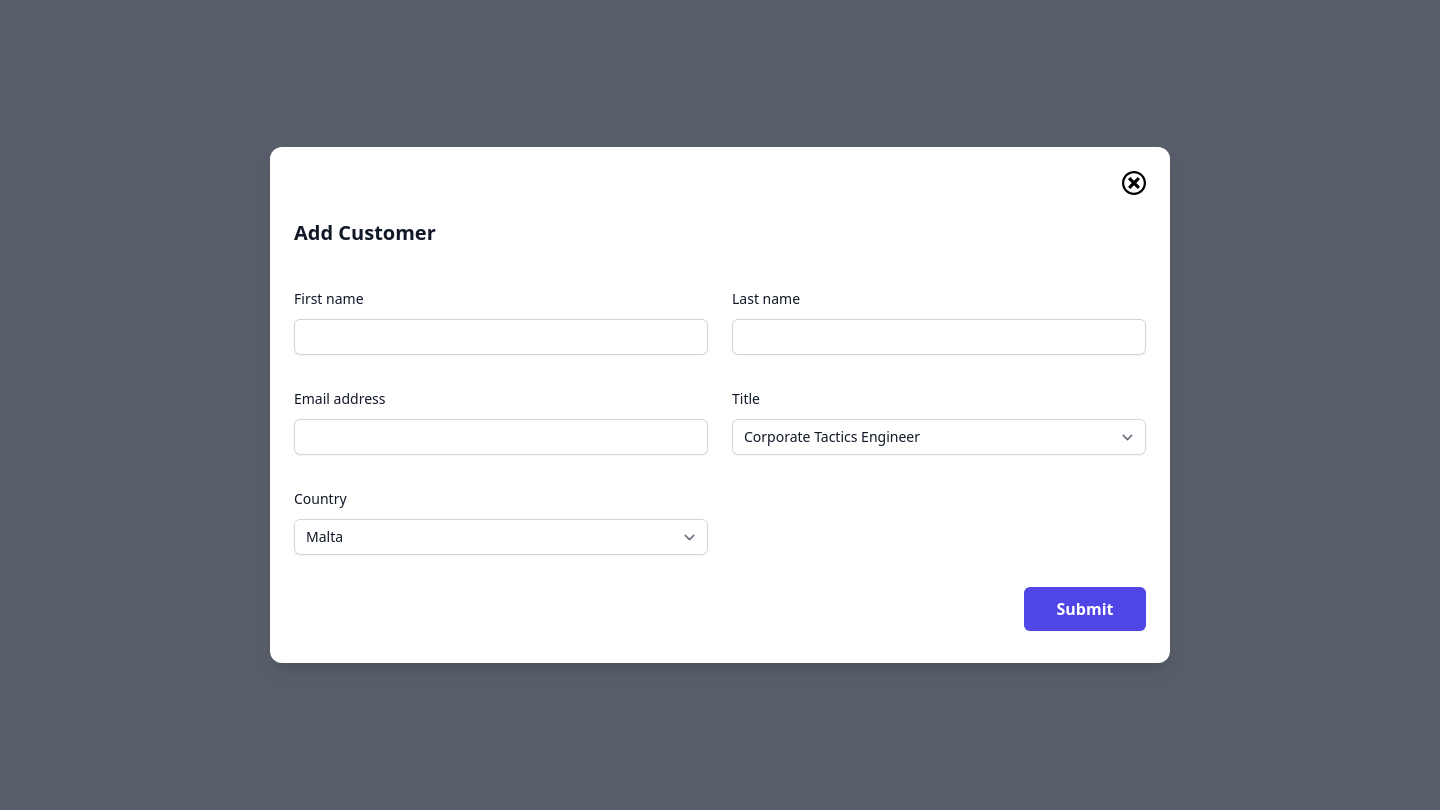
Test FormModal component: Add new customer › displays an error message when form submission fails
The image size is (1440, 810).
In the field labelled "First name": (501, 337) x1=294 y1=319 x2=708 y2=355, type "Bob"
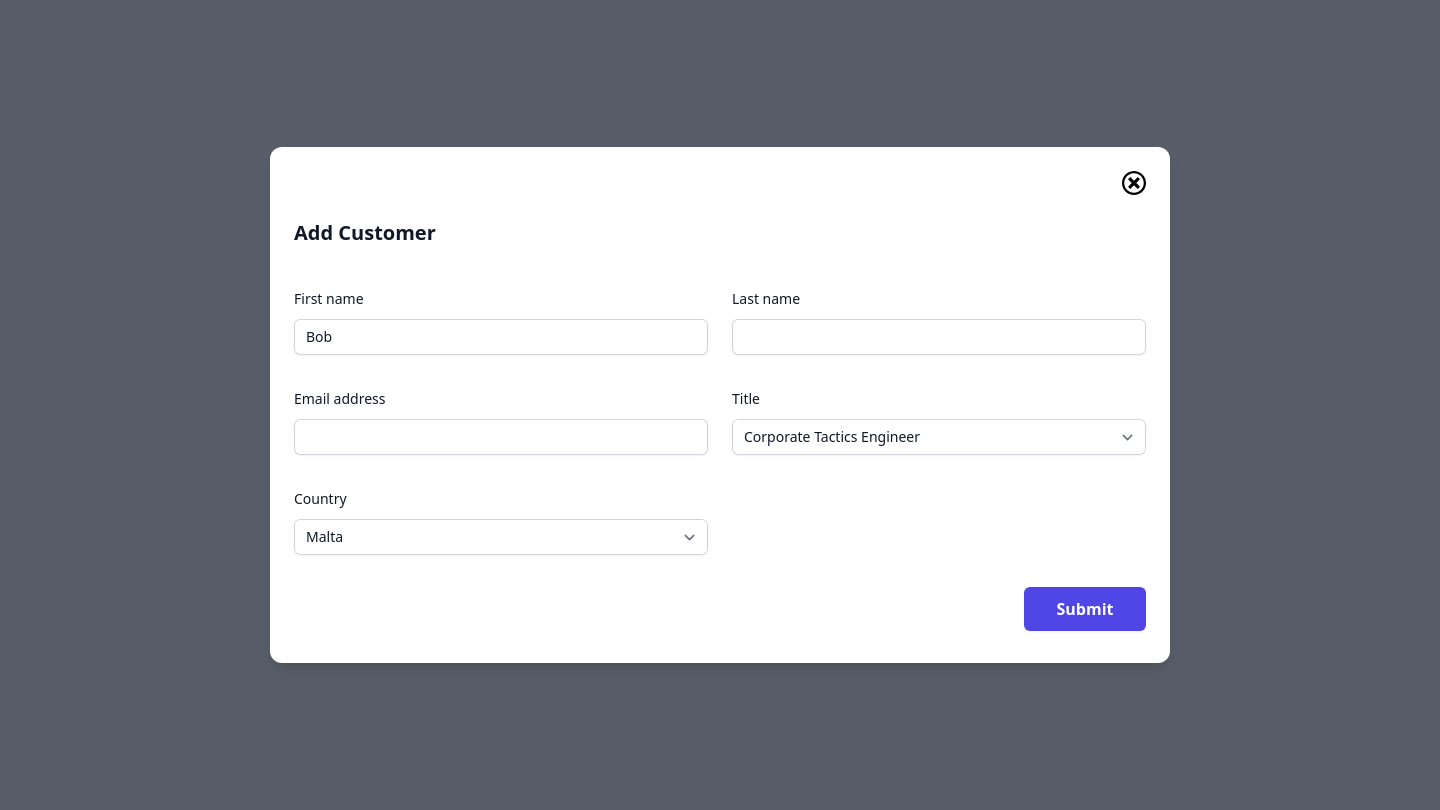
In the field labelled "Last name": (939, 337) x1=732 y1=319 x2=1146 y2=355, type "Williams"
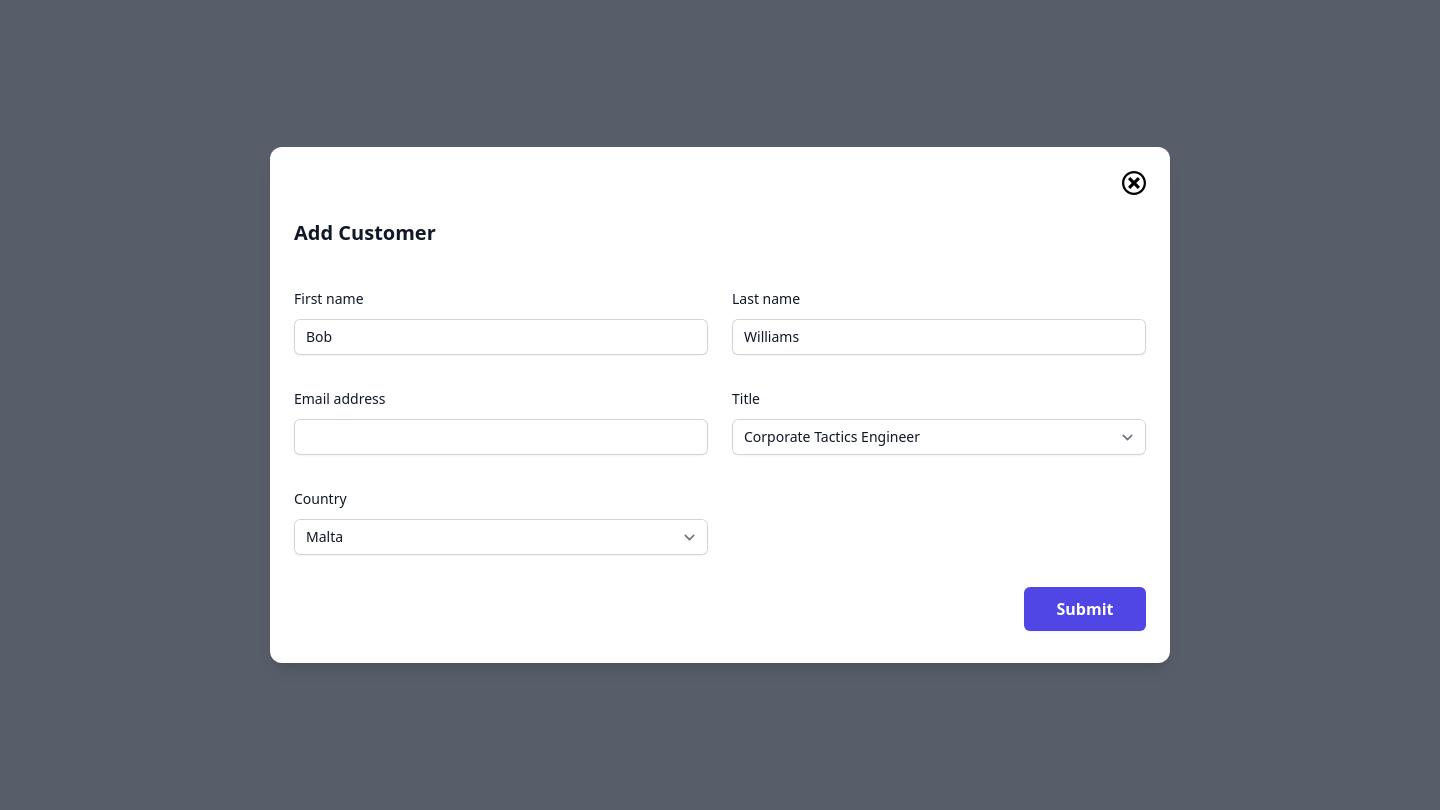
In the field labelled "Email address": (501, 437) x1=294 y1=419 x2=708 y2=455, type "bob.williams@example.com"
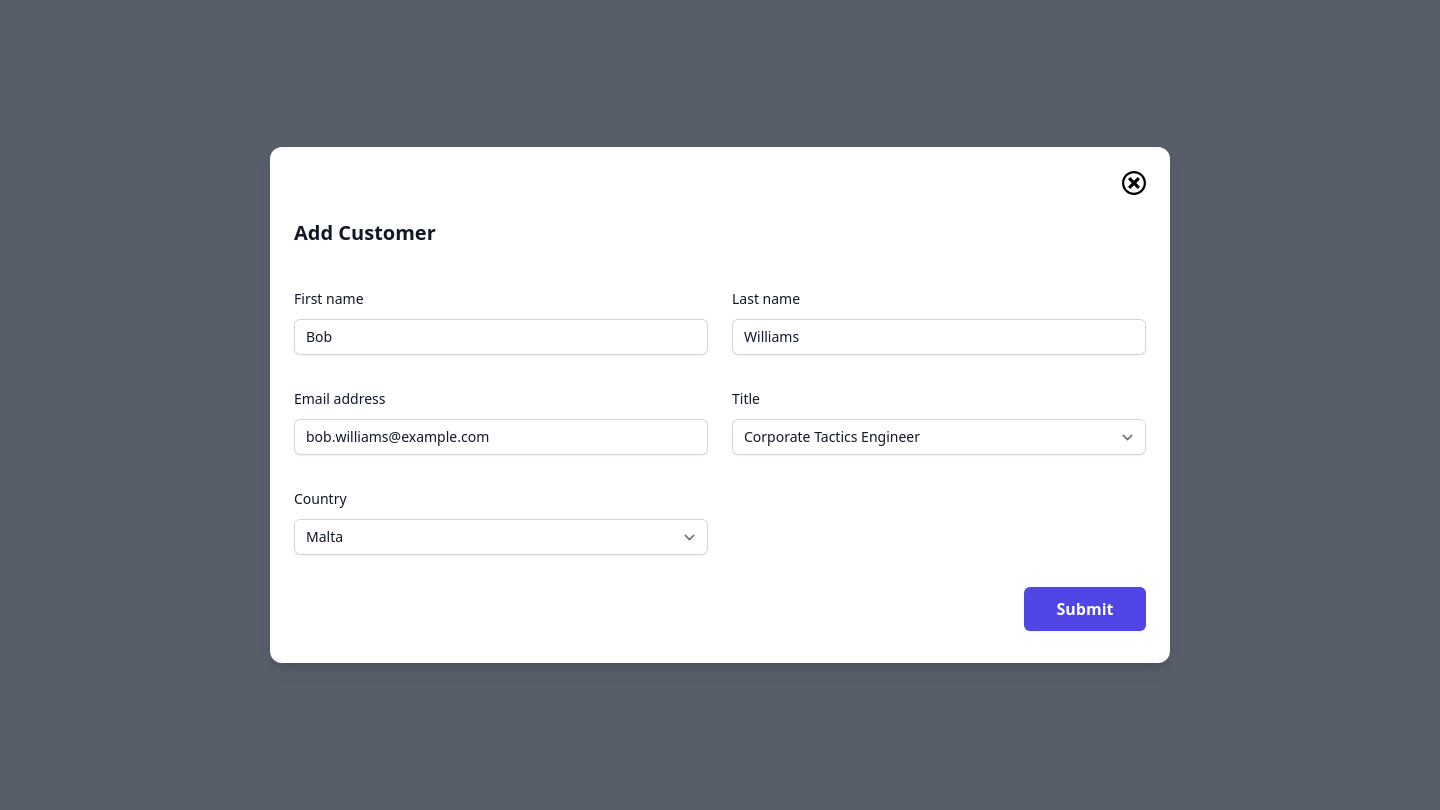
Select "Corporate Tactics Engineer" in the dropdown labelled "Title": (939, 437) x1=732 y1=419 x2=1146 y2=455
Select "Malta" in the dropdown labelled "Country": (501, 537) x1=294 y1=519 x2=708 y2=555
Click the button "Submit": click(1085, 609) x1=1024 y1=587 x2=1146 y2=631
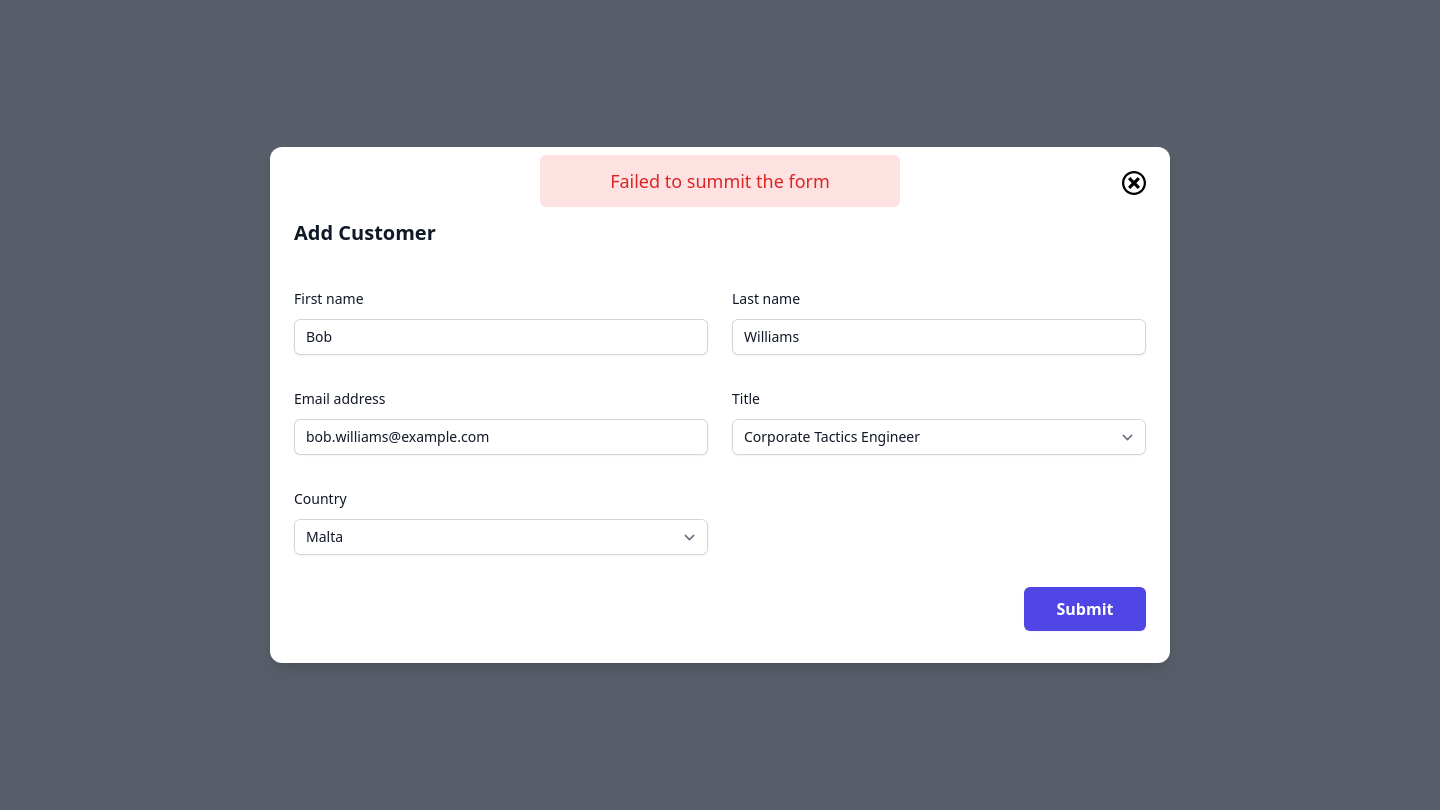
Now the text "Failed to summit the form" is shown, box x1=540 y1=155 x2=900 y2=207
